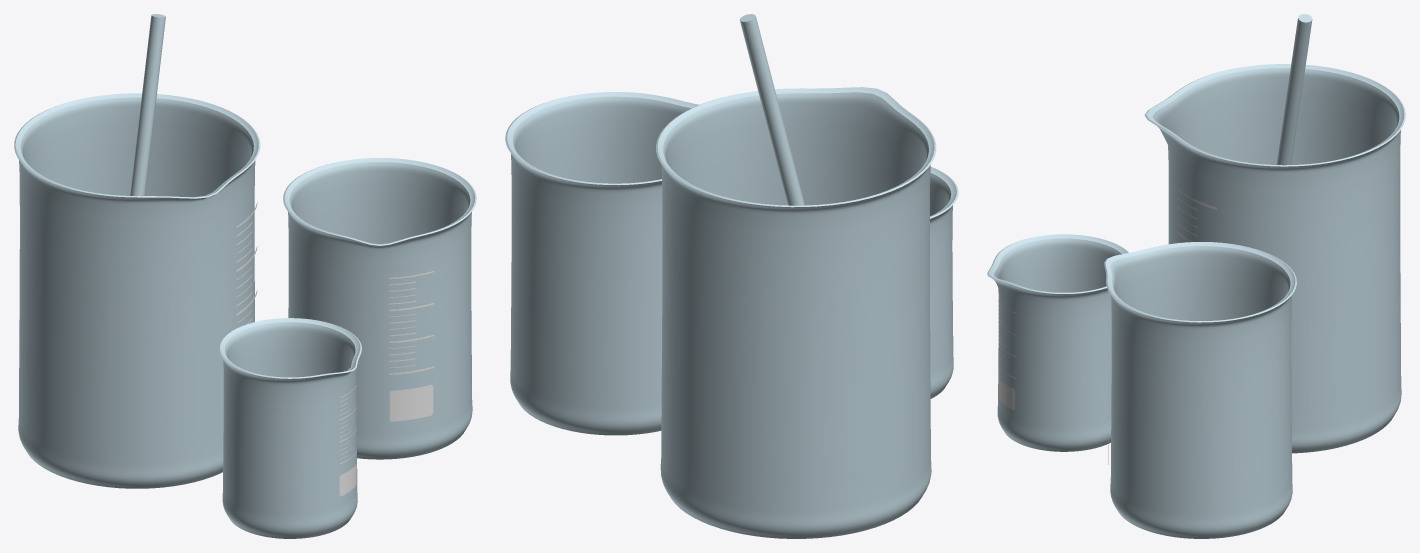
Rendered from beaker-set.glb.
The picture shows the model from 3 angles, left to right: view 1: azimuth 30°, elevation 25°; view 2: azimuth 150°, elevation 25°; view 3: azimuth 270°, elevation 25°; orthographic projection. The views are drawn at different scales.
Visible parts, largest first — view 1: Large_Beaker, Medium_Beaker, Small_Beaker, Stirring_Rod; view 2: Large_Beaker, Medium_Beaker, Small_Beaker, Stirring_Rod; view 3: Large_Beaker, Medium_Beaker, Small_Beaker, Stirring_Rod.
Boxes of the visible parts, <box> form: Large_Beaker: <box>14,93,260,488</box>; Medium_Beaker: <box>283,158,476,459</box>; Small_Beaker: <box>218,318,361,538</box>; Stirring_Rod: <box>130,14,165,196</box>; Large_Beaker: <box>656,87,936,538</box>; Medium_Beaker: <box>505,92,699,435</box>; Small_Beaker: <box>930,167,958,398</box>; Stirring_Rod: <box>739,14,804,205</box>; Large_Beaker: <box>1144,64,1405,453</box>; Medium_Beaker: <box>1104,242,1296,538</box>; Small_Beaker: <box>987,234,1128,451</box>; Stirring_Rod: <box>1276,14,1312,165</box>.
Size of the model in its own units: 0.1716 by 0.1727 by 0.1615.
Materials: 5 (1 with a texture image).
